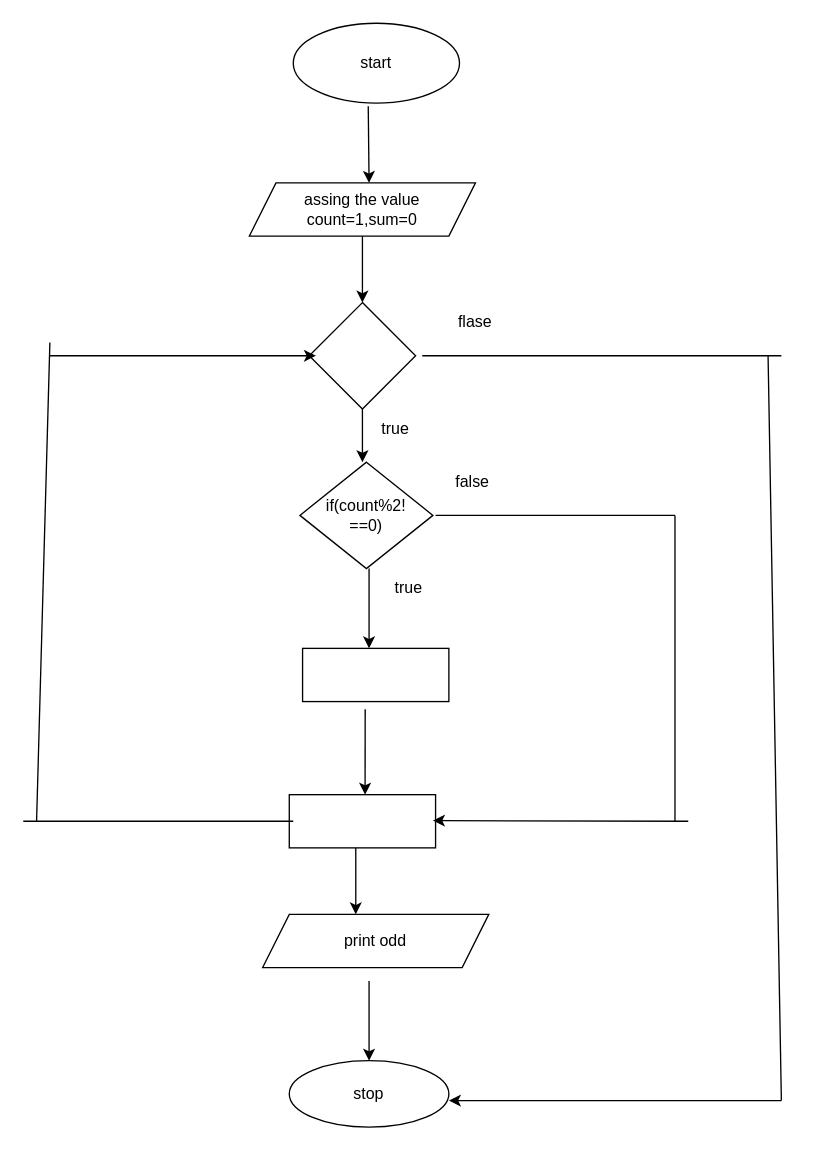
This 815x1150 diagram has some shape labels left out. The centre of each missing label's shape, as x and y in pixels:
"count<=50" belongs at pixel 362 355.
"count=count+1" belongs at pixel 362 820.
"sum=sum+count" belongs at pixel 375 674.
